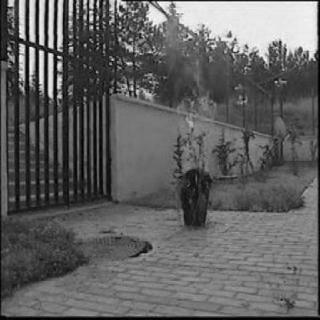Fire: (192, 177, 206, 193)
